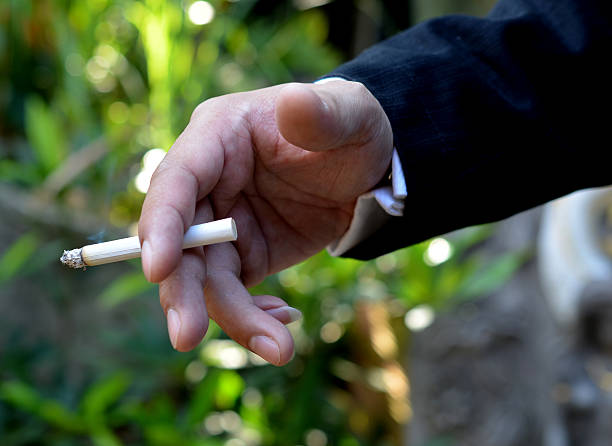cigarette: (61, 213, 238, 269)
